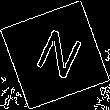N_SW: (26, 23, 84, 87)
